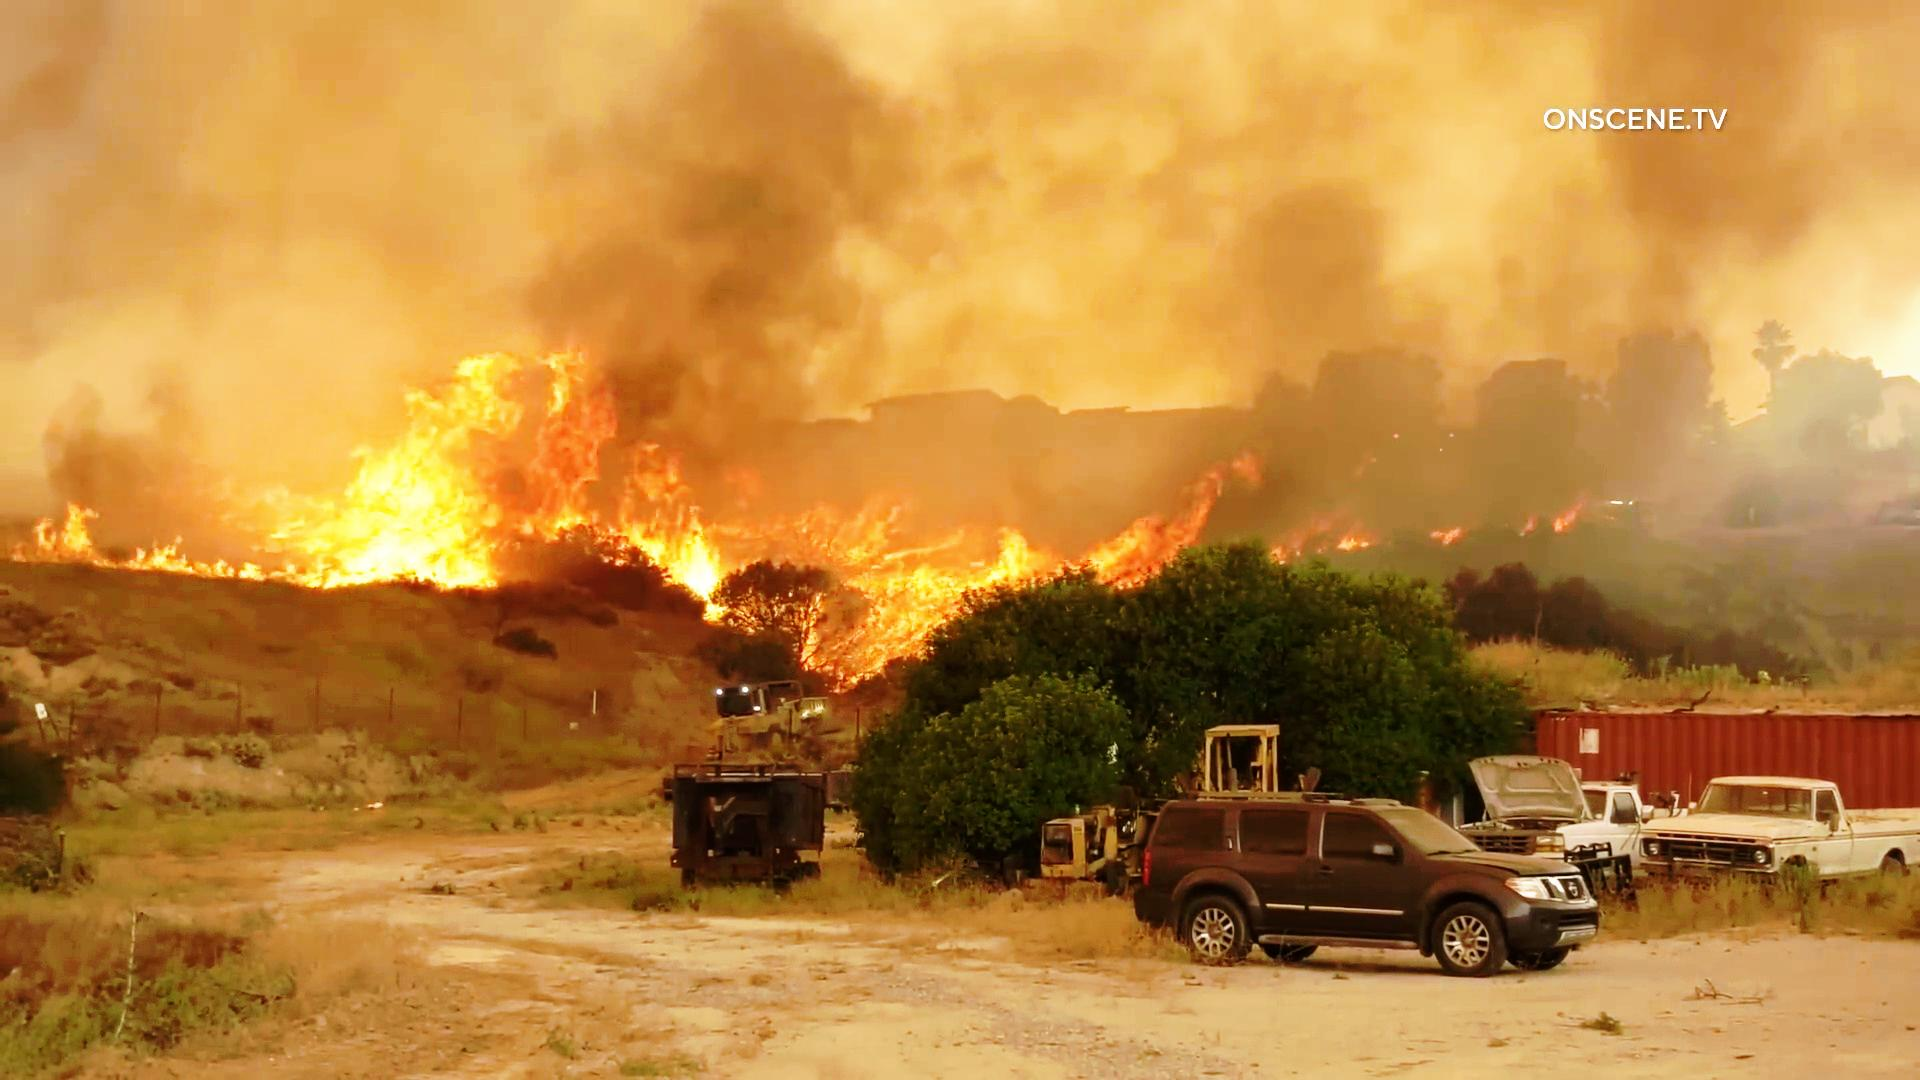fire: (315, 340, 596, 583), (622, 483, 719, 616)
smoke: (605, 53, 868, 452)
